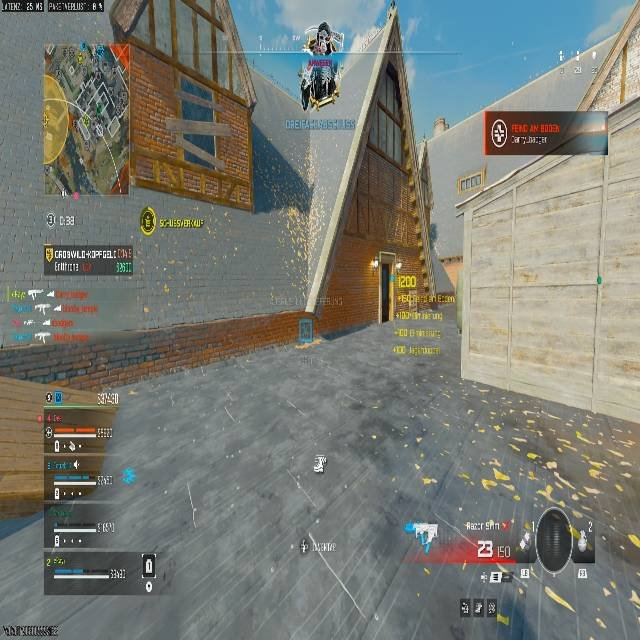head: (316, 22, 331, 36)
player: (299, 21, 341, 110)
